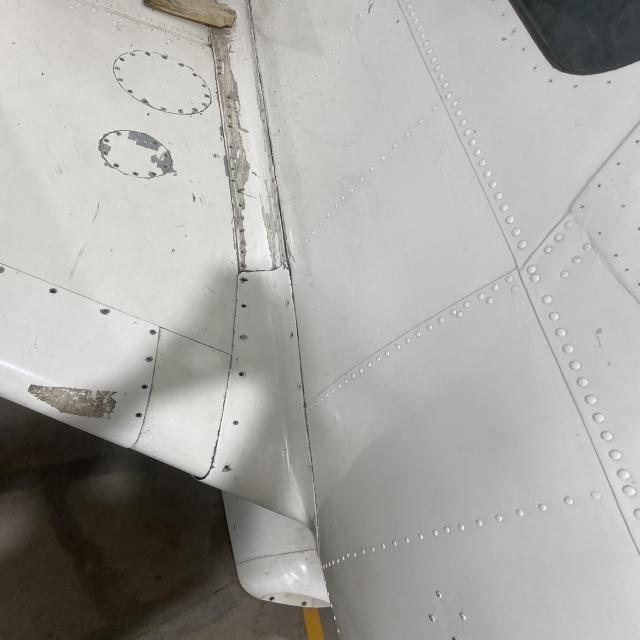Crack: (262, 124, 287, 190), (308, 486, 325, 560), (276, 218, 294, 284), (256, 70, 268, 90)
Missing_Fastener: (48, 287, 58, 295), (222, 464, 232, 471), (134, 412, 143, 418), (141, 384, 148, 391), (239, 371, 245, 377), (241, 303, 247, 309), (241, 278, 249, 282), (240, 263, 246, 268), (230, 166, 236, 171), (239, 228, 244, 233), (290, 332, 294, 338), (237, 204, 243, 208), (237, 189, 243, 193), (231, 179, 236, 183), (227, 124, 232, 128), (298, 384, 301, 390), (226, 115, 232, 118), (226, 96, 232, 99), (227, 105, 233, 108), (240, 250, 244, 253)
